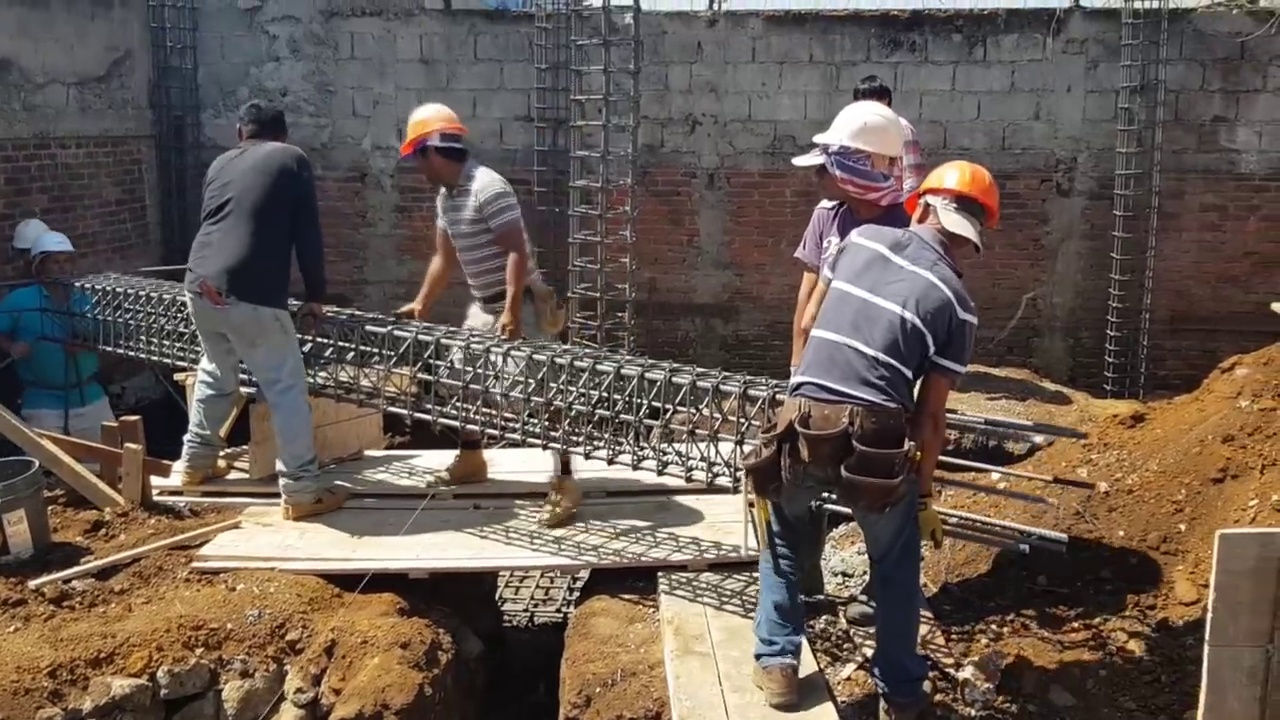helmet: (800, 104, 923, 170), (907, 159, 995, 229), (394, 102, 460, 160), (28, 231, 75, 265), (7, 217, 50, 251)
helmet-off: (228, 99, 278, 143), (849, 76, 895, 110)
helmet-on: (798, 102, 923, 215), (901, 159, 1003, 272), (391, 100, 469, 190), (27, 231, 77, 292)
person: (751, 150, 1003, 716), (389, 96, 586, 528), (176, 101, 335, 526), (784, 102, 920, 374), (4, 228, 114, 494)
